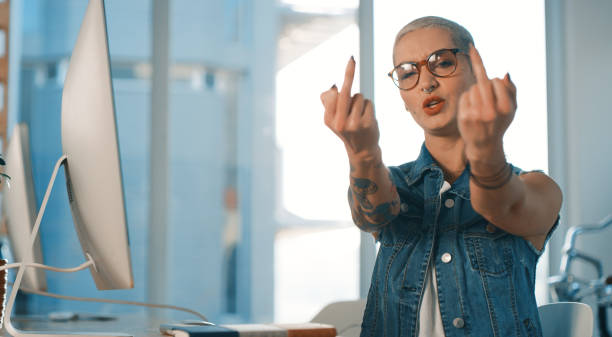insulting_gesture: (319, 50, 386, 148), (455, 42, 520, 142)
